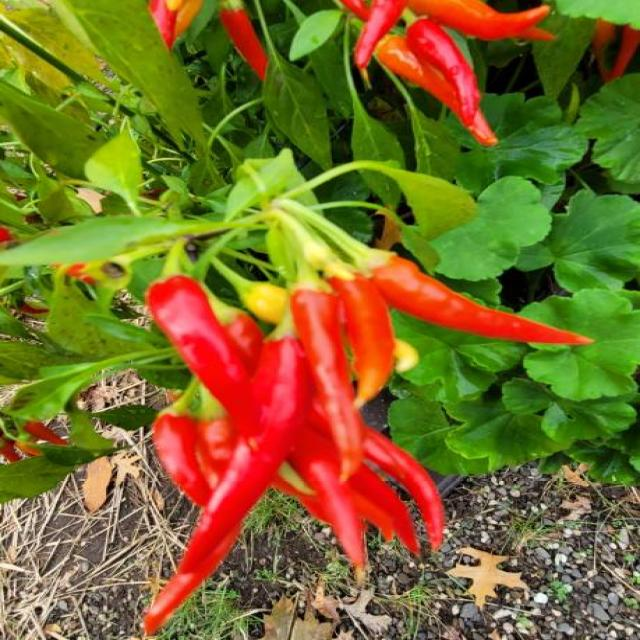Ripe: (146, 343, 298, 630), (361, 255, 590, 344), (291, 289, 363, 481), (148, 276, 247, 413), (407, 19, 494, 143), (365, 428, 443, 547), (330, 275, 395, 405), (406, 0, 549, 39), (153, 413, 209, 504), (354, 0, 406, 70), (220, 5, 266, 79)
